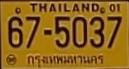0: (72, 16, 86, 47)
3: (89, 16, 104, 47)
5: (54, 15, 69, 47)
6: (7, 16, 22, 47)
7: (106, 15, 122, 47), (26, 15, 40, 48)
BKK: (25, 52, 106, 67)
